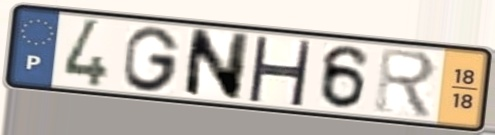4: (60, 17, 113, 90)
6: (317, 43, 372, 112)
G: (121, 24, 184, 94)
H: (244, 34, 315, 109)
N: (180, 26, 253, 103)
R: (373, 45, 440, 122)
